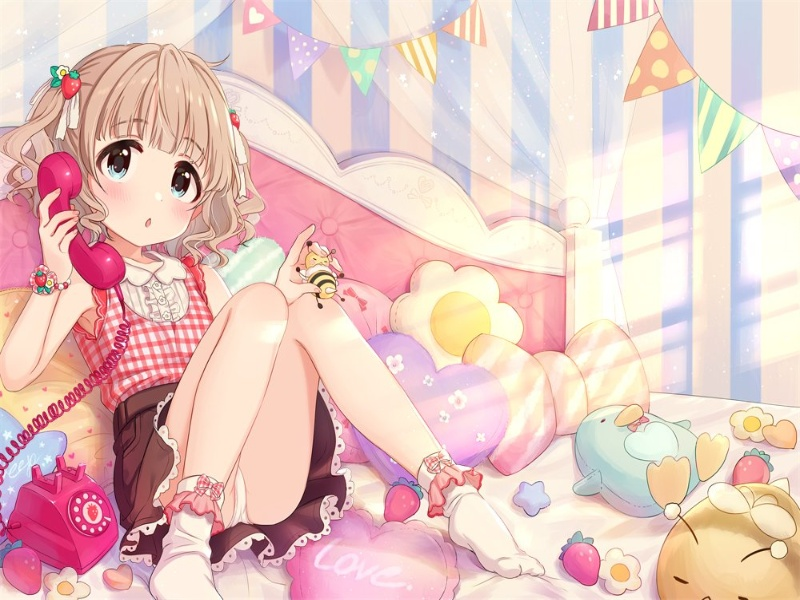person: (68, 111, 223, 259)
